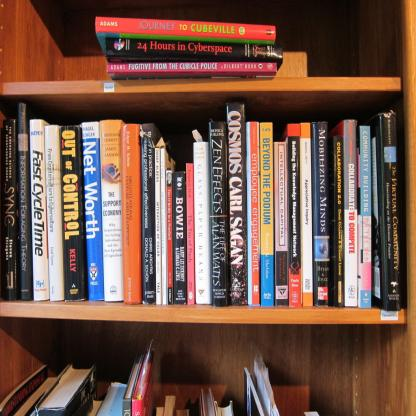book: (0, 101, 402, 309), (0, 337, 281, 415), (94, 16, 278, 57), (105, 37, 282, 70), (209, 122, 229, 305), (106, 58, 276, 76)
